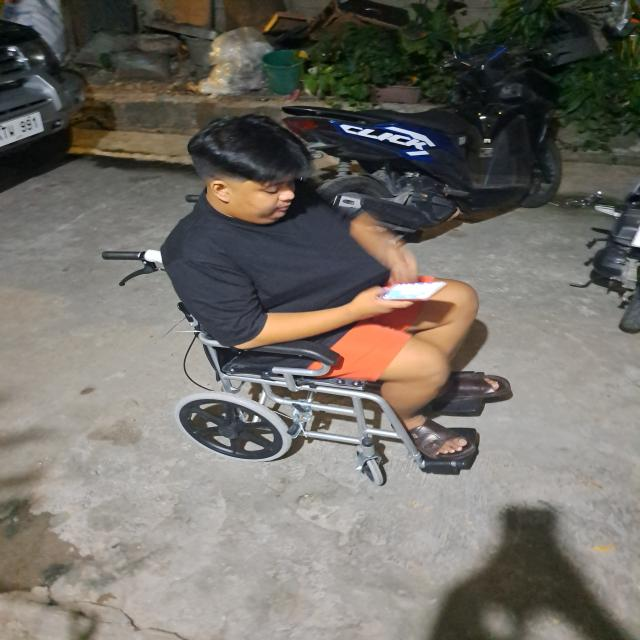wheelchairs: (96, 234, 502, 495)
